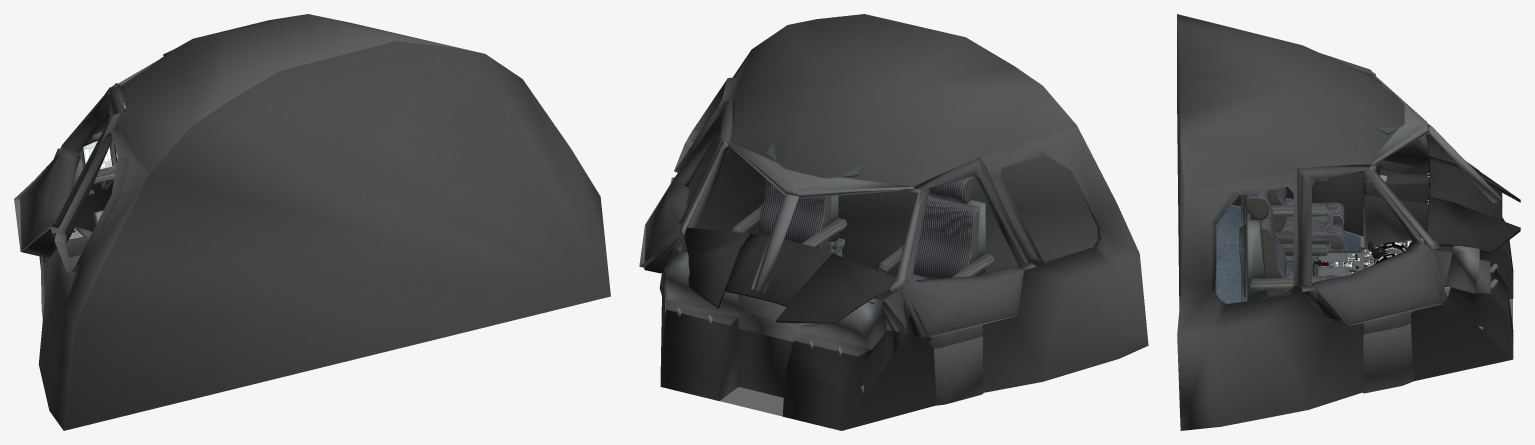
The picture shows the model from 3 angles, left to right: view 1: azimuth 30°, elevation 25°; view 2: azimuth 150°, elevation 25°; view 3: azimuth 270°, elevation 25°; orthographic projection. The views are drawn at different scales.
Visible parts, largest first — view 1: static-material-36, static-material-47, static-material-35, static-material-28; view 2: static-material-36, static-material-35, static-material-47, static-material-19, static-material-28, static-material-40, static-material-23, static-material-27, static-material-24, static-material-37; view 3: static-material-36, static-material-47, static-material-28, static-material-19, static-material-35, static-material-23, static-material-37, static-material-24, static-material-27, static-material-40, static-material-45.
Part boxes in pixels (box(x1,y1,x2,y2)): static-material-36: box(14, 14, 610, 430); static-material-47: box(20, 85, 124, 258); static-material-35: box(43, 148, 113, 263); static-material-28: box(40, 139, 116, 319); static-material-36: box(639, 14, 1148, 430); static-material-35: box(660, 237, 982, 430); static-material-47: box(644, 97, 1028, 337); static-material-19: box(681, 227, 898, 323); static-material-28: box(662, 250, 983, 405); static-material-40: box(759, 176, 978, 279); static-material-23: box(678, 141, 921, 292); static-material-27: box(732, 179, 993, 277); static-material-24: box(731, 194, 994, 276); static-material-37: box(720, 319, 783, 416); static-material-36: box(1177, 14, 1512, 430); static-material-47: box(1297, 53, 1447, 325); static-material-28: box(1362, 161, 1490, 393); static-material-19: box(1426, 135, 1520, 253); static-material-35: box(1363, 160, 1513, 359); static-material-23: box(1369, 70, 1501, 249); static-material-37: box(1216, 205, 1512, 326); static-material-24: box(1239, 178, 1331, 301); static-material-27: box(1244, 189, 1343, 297); static-material-40: box(1245, 187, 1344, 296); static-material-45: box(1320, 241, 1405, 276).
Bounding box in the file's own units: 3.32 × 1.79 × 2.08.
Materials: 93 (88 with a texture image).
